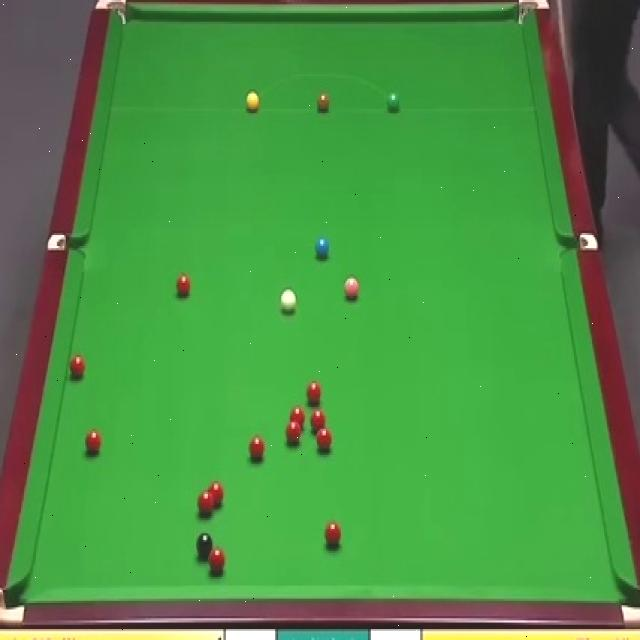black-ball: (198, 532, 213, 559)
blue-ball: (316, 237, 330, 261)
brown-ball: (316, 91, 330, 112)
green-ball: (386, 92, 400, 112)
pink-ball: (344, 278, 360, 302)
red-ball: (82, 426, 101, 455), (306, 378, 323, 406), (316, 424, 332, 452), (198, 490, 215, 516), (208, 547, 225, 573), (248, 433, 264, 460), (69, 353, 84, 380), (208, 481, 224, 506), (327, 522, 341, 549), (287, 422, 303, 445), (289, 406, 305, 428), (311, 409, 326, 432), (176, 276, 191, 296)
white-ball: (280, 289, 296, 314)
yellow-ball: (245, 91, 260, 112)
